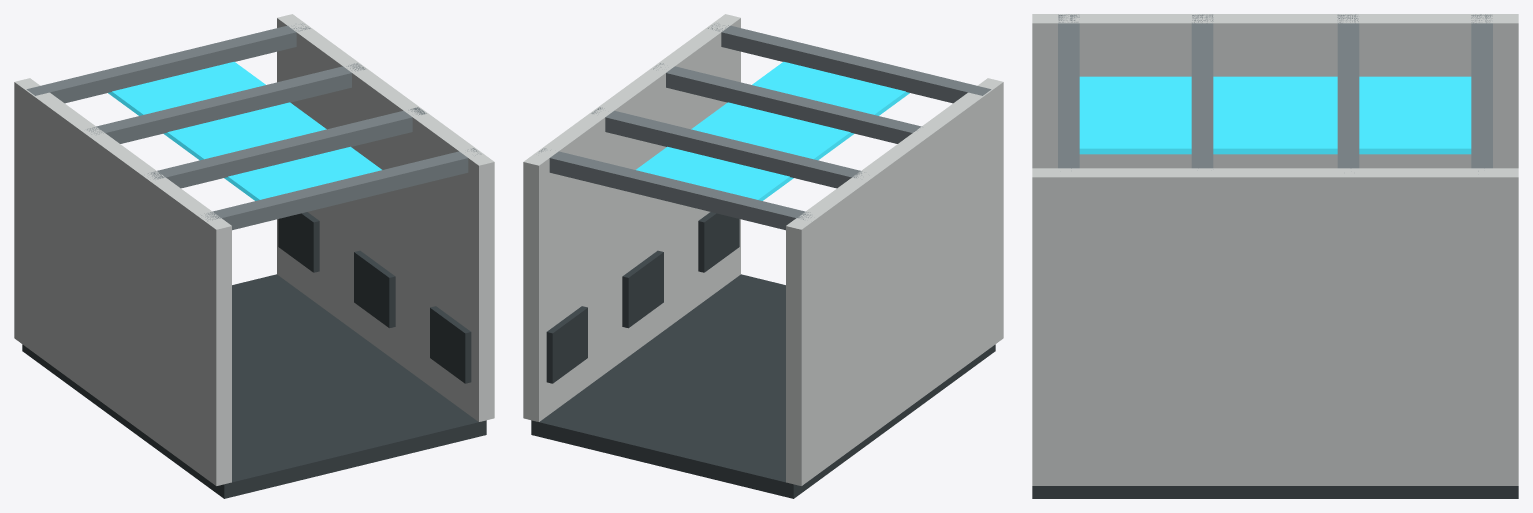
Rendered from gravifire_corridor_4m.glb.
The picture shows the model from 3 angles, left to right: view 1: azimuth 30°, elevation 25°; view 2: azimuth 150°, elevation 25°; view 3: azimuth 270°, elevation 25°; orthographic projection. The views are drawn at different scales.
Parts seen in each view (by area): view 1: wall_l, wall_r, floor, ceiling_light, ceiling_rib_-1.7, ceiling_rib_1.7, ceiling_rib_0.6, ceiling_rib_-0.6, kick_r_0, kick_r_1.5, kick_r_-1.5; view 2: wall_l, wall_r, floor, ceiling_light, ceiling_rib_1.7, ceiling_rib_-1.7, ceiling_rib_-0.6, ceiling_rib_0.6, kick_r_0, kick_r_-1.5, kick_r_1.5; view 3: wall_r, wall_l, ceiling_light, floor, ceiling_rib_0.6, ceiling_rib_-0.6, ceiling_rib_1.7, ceiling_rib_-1.7.
Part boxes in pixels (x1,y1,x2,y2): wall_l: (14,78,231,485); wall_r: (277,14,494,421); floor: (22,274,486,498); ceiling_light: (108,61,381,200); ceiling_rib_-1.7: (26,23,310,103); ceiling_rib_1.7: (201,148,481,230); ceiling_rib_0.6: (148,107,426,188); ceiling_rib_-0.6: (87,63,365,143); kick_r_0: (354,250,395,328); kick_r_1.5: (430,306,471,383); kick_r_-1.5: (278,212,319,272); wall_l: (786,78,1003,485); wall_r: (523,14,740,421); floor: (531,274,995,498); ceiling_light: (636,61,909,200); ceiling_rib_1.7: (708,23,991,103); ceiling_rib_-1.7: (539,148,811,230); ceiling_rib_-0.6: (591,107,864,188); ceiling_rib_0.6: (653,63,922,143); kick_r_0: (622,250,663,328); kick_r_-1.5: (546,306,587,383); kick_r_1.5: (698,212,739,272); wall_r: (1032,168,1518,485); wall_l: (1032,14,1518,168); ceiling_light: (1079,76,1471,154); floor: (1032,486,1518,498); ceiling_rib_0.6: (1191,14,1213,168); ceiling_rib_-0.6: (1337,14,1359,168); ceiling_rib_1.7: (1058,14,1079,168); ceiling_rib_-1.7: (1471,14,1492,171).
Size of the model in its own units: 3.18 by 2.96 by 4.
